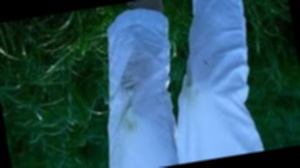earth: (181, 79, 198, 102), (123, 108, 138, 132)
